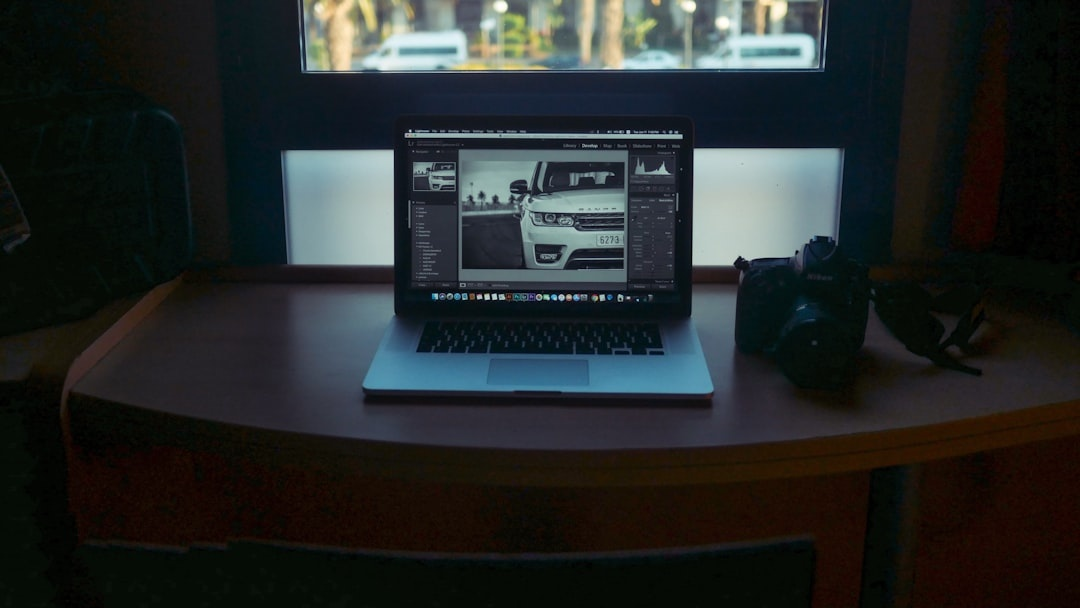laptop: (345, 95, 729, 414)
